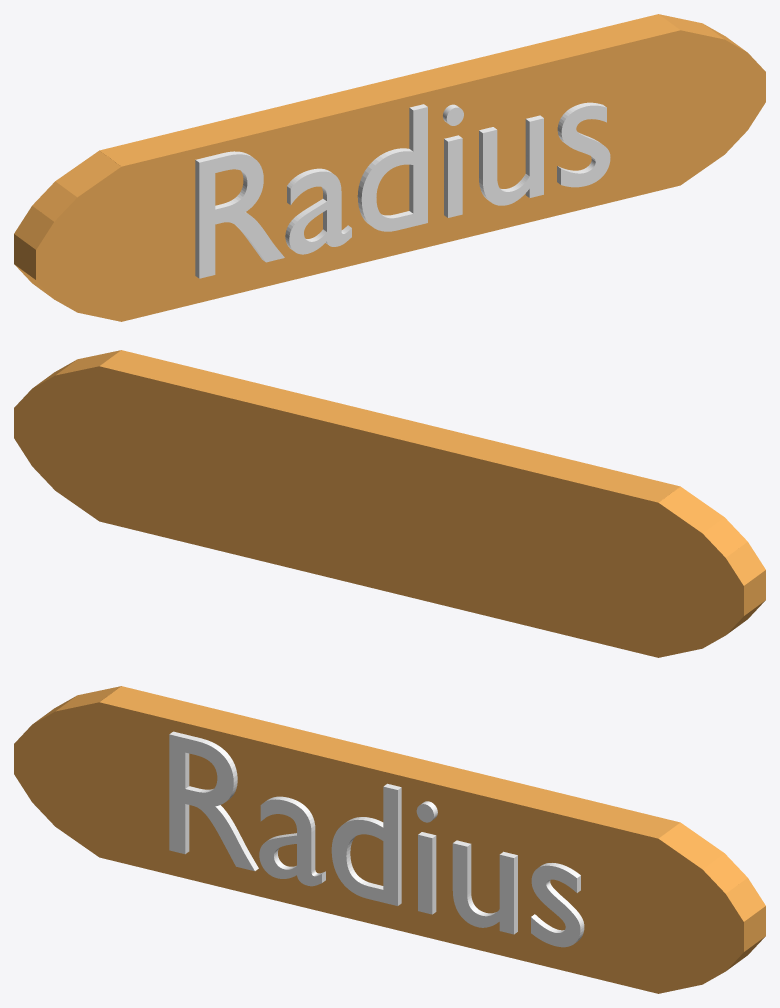
File: txtRadius.fbx
The picture shows the model from 3 angles, top to bottom: view 1: azimuth 30°, elevation 25°; view 2: azimuth 150°, elevation 25°; view 3: azimuth 330°, elevation 25°; orthographic projection.
Visible parts, largest first — view 1: TagContainer.009, Text.009; view 2: TagContainer.009; view 3: TagContainer.009, Text.009.
Part boxes in pixels (box(x1,y1,x2,y2)): TagContainer.009: box(14, 14, 765, 321); Text.009: box(195, 102, 610, 278); TagContainer.009: box(14, 350, 765, 657); TagContainer.009: box(14, 686, 765, 993); Text.009: box(169, 731, 584, 947).
Size of the model in its own units: 203 by 41.3 by 12.58.
